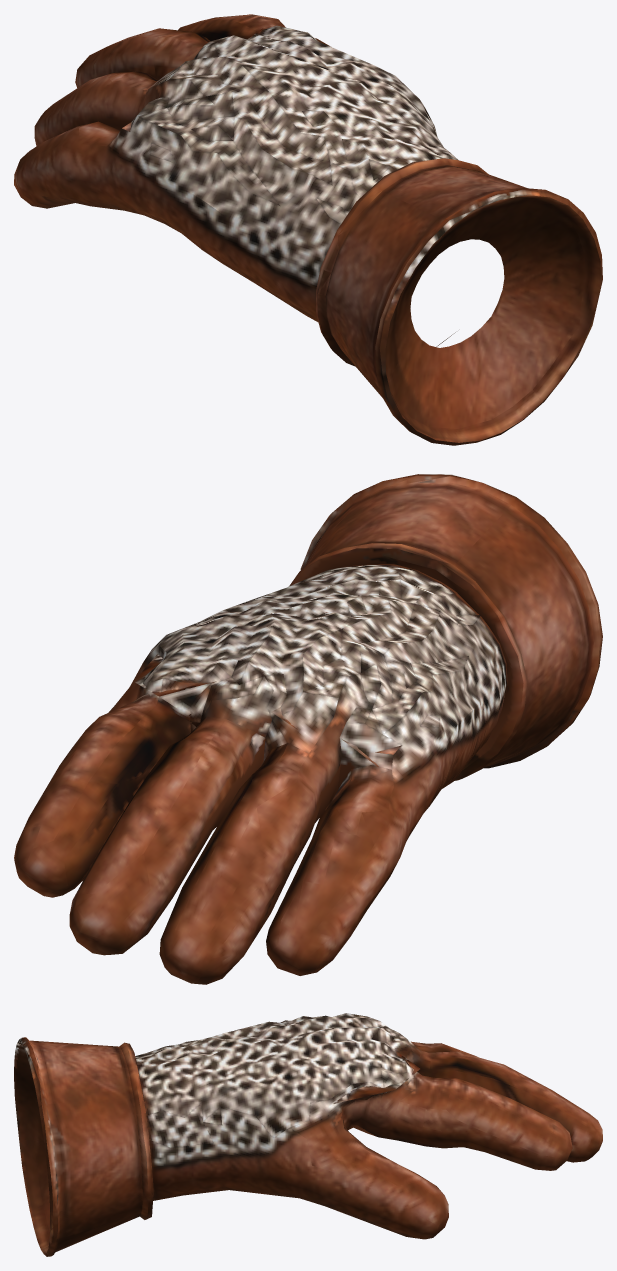
The model's file is item_mm9_10135.glb.
3 views of the same model, one above another, from view 1: azimuth 30°, elevation 25°; view 2: azimuth 150°, elevation 25°; view 3: azimuth 270°, elevation 25° (orthographic). The views are drawn at different scales.
Visible parts, largest first — view 1: d10135; view 2: d10135; view 3: d10135.
Part boxes in pixels (x1,y1,x2,y2): d10135: (14,14,602,445); d10135: (14,474,602,984); d10135: (14,1013,602,1256).
Size of the model in its own units: 0.5062 by 0.4023 by 1.04.
1 material, 1 textured.
